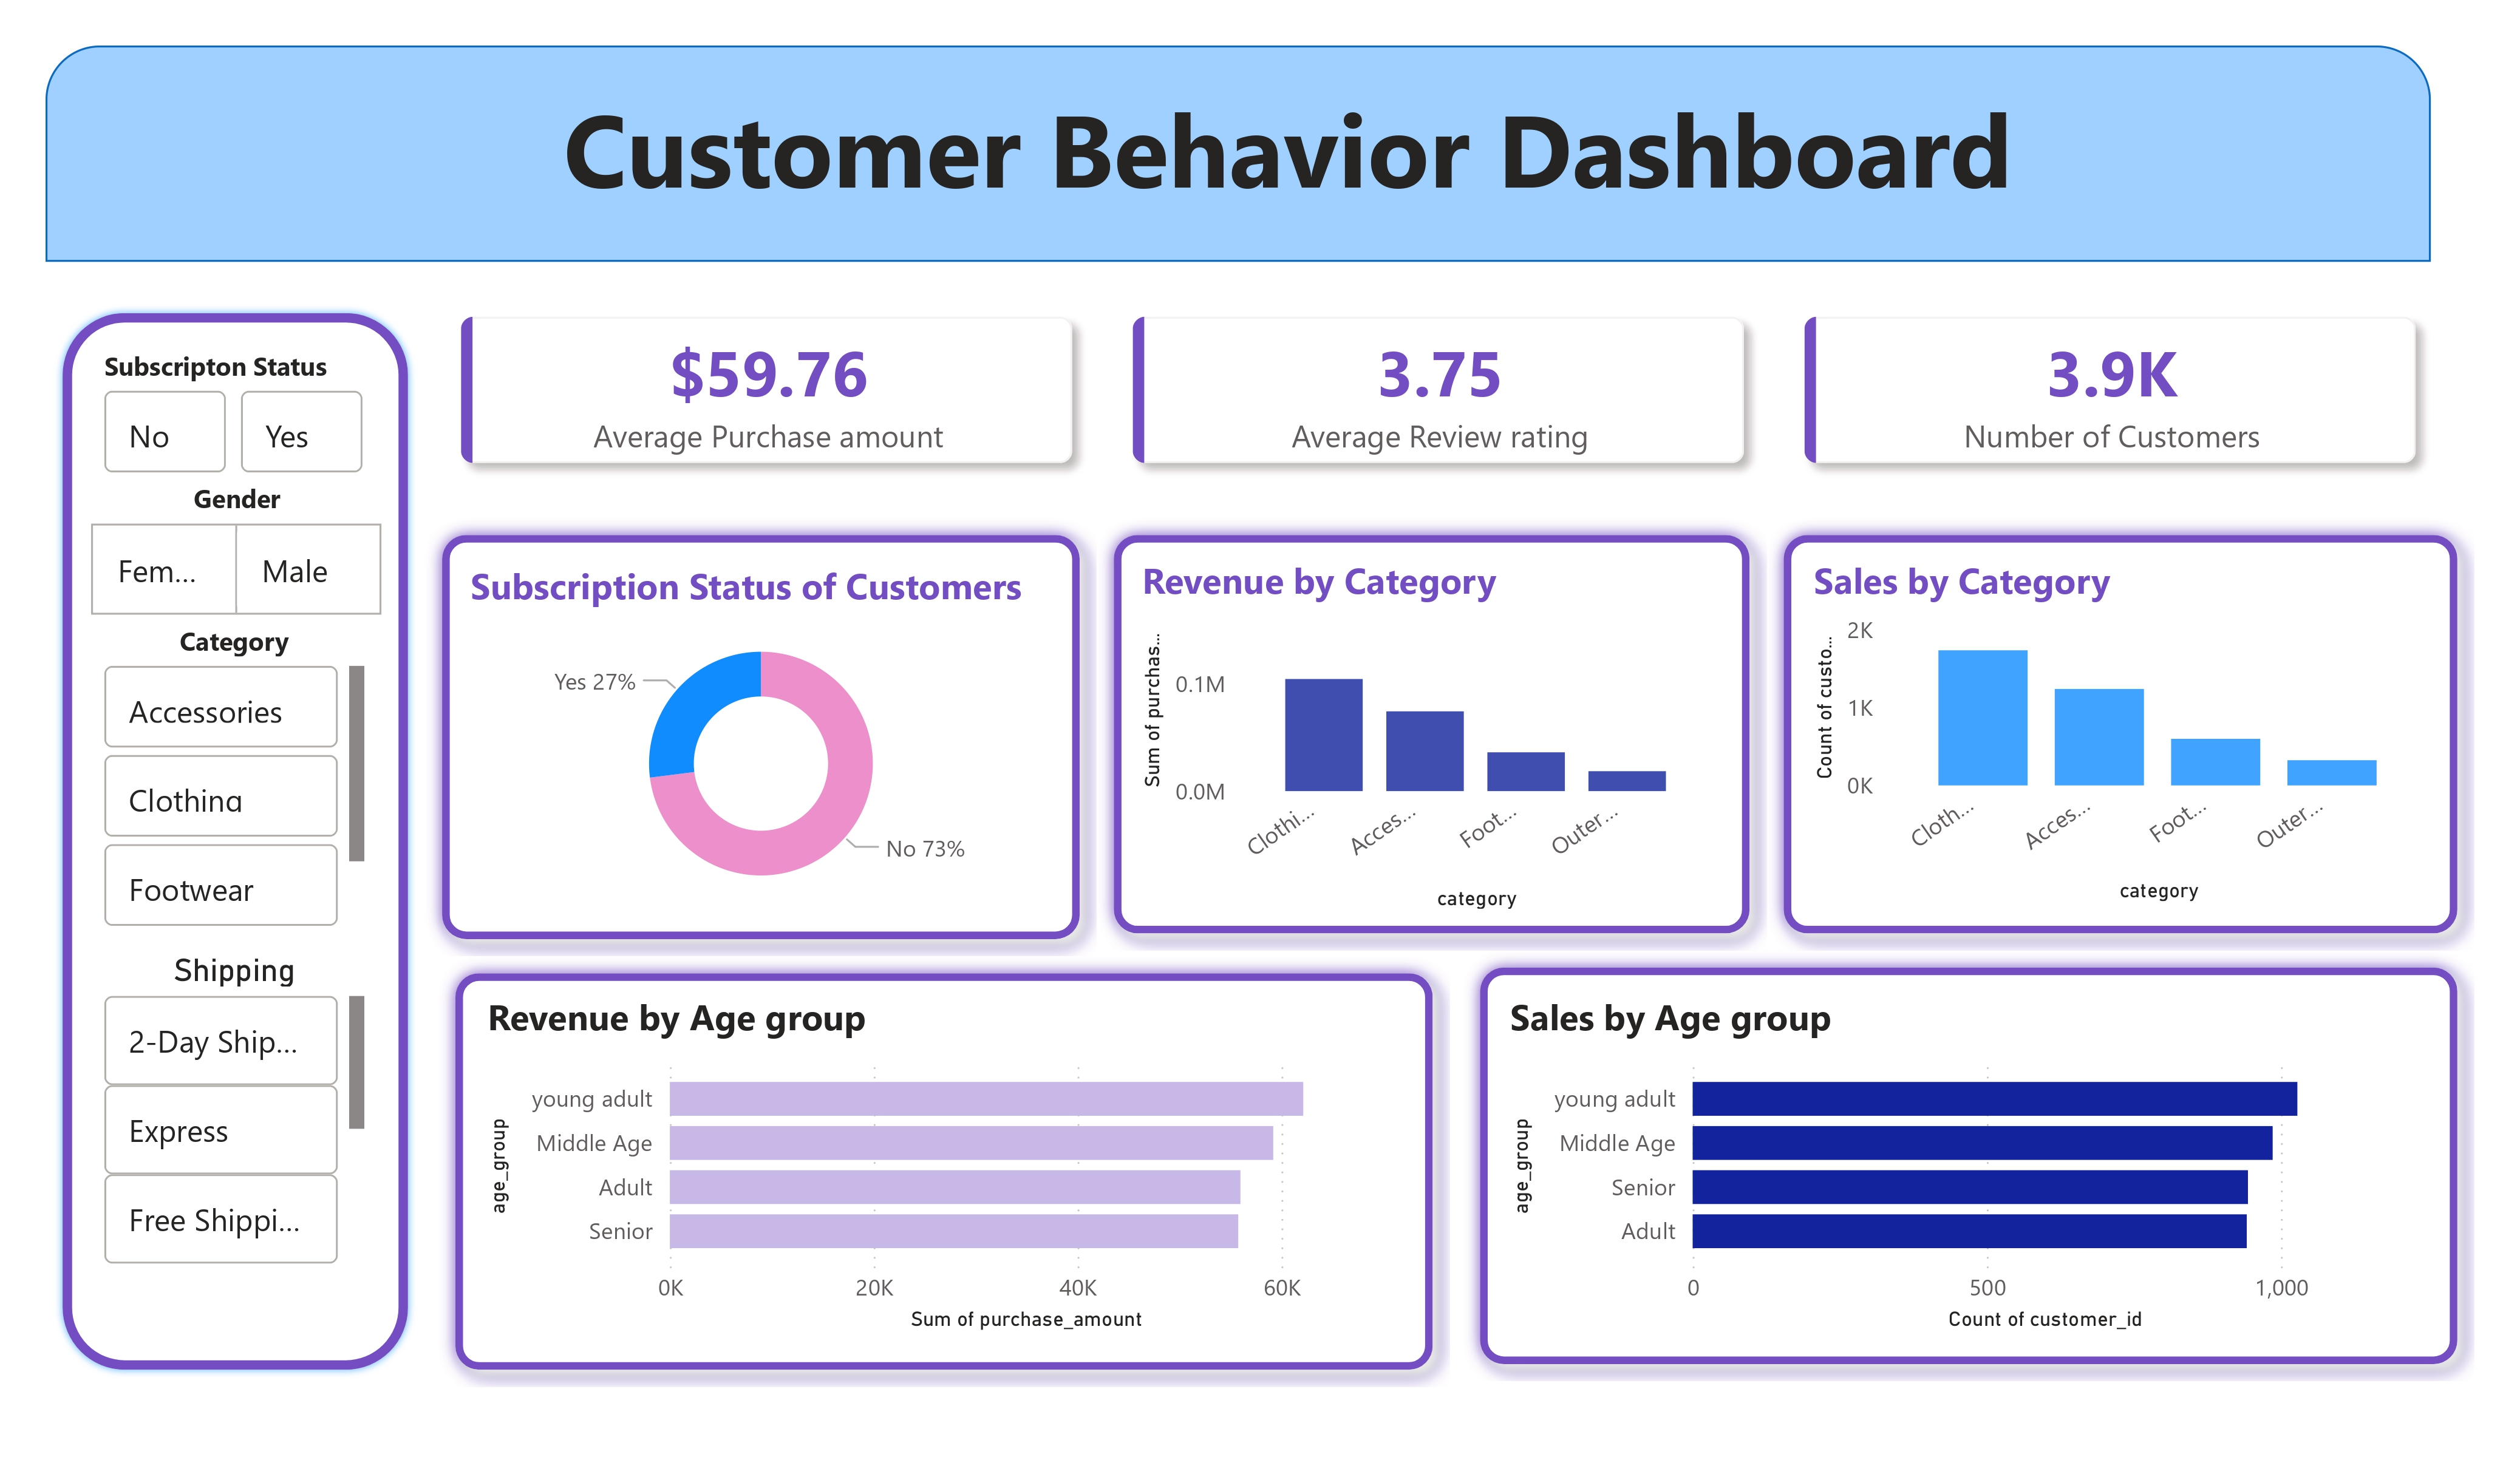

Layout of this report page (visuals, bound fields, positions):
{"tool":"powerbi","page":{"name":"Page 1","canvas":[1280,720],"ordinal":0},"visuals":[{"type":"cardVisual","fields":{"Data":["customer_behavior customer.Average Purchase amount","customer_behavior customer.Average Review rating","customer_behavior customer.Number of Customers"]},"box":[189.7,113.8,1090.3,135.2],"z":0},{"type":"shape","box":[0,0,1256.7,113.8],"z":1},{"type":"textbox","box":[0,11.7,1280,90.5],"z":2},{"type":"shape","box":[200.4,249,354,230.5],"z":3},{"type":"donutChart","title":"Subscription Status of Customers","fields":{"Category":["customer_behavior customer.subscription_status"],"Y":["CountNonNull(customer_behavior customer.customer_id)"]},"box":[218.8,272.3,316.1,187.7],"z":4},{"type":"shape","box":[554.4,249,352.1,227.6],"z":5},{"type":"clusteredColumnChart","title":"Revenue by Category","fields":{"Y":["Sum(customer_behavior customer.purchase_amount)"],"Category":["customer_behavior customer.category"]},"box":[572.9,269.4,309.3,190.6],"z":6},{"type":"shape","box":[906.5,249,373.5,227.6],"z":8},{"type":"clusteredColumnChart","title":"Sales by Category","fields":{"Category":["customer_behavior customer.category"],"Y":["CountNonNull(customer_behavior customer.customer_id)"]},"box":[926.9,269.4,332.6,186.7],"z":9},{"type":"shape","box":[0,132.3,200.4,574.8],"z":10},{"type":"advancedSlicerVisual","title":"Subscripton Status","fields":{"Values":["customer_behavior customer.subscription_status"]},"box":[26.3,159.5,146.9,70],"z":11},{"type":"advancedSlicerVisual","title":"Gender","fields":{"Values":["customer_behavior customer.gender"]},"box":[19.5,229.5,163.4,75.9],"z":12},{"type":"advancedSlicerVisual","title":"Category","fields":{"Values":["customer_behavior customer.category"]},"box":[26.3,305.4,146.9,165.3],"z":13},{"type":"advancedSlicerVisual","title":"Shipping","fields":{"Values":["customer_behavior customer.shipping_type"]},"box":[26.3,476.6,146.9,170.2],"z":14},{"type":"shape","box":[207.2,479.5,533,227.6],"z":16},{"type":"clusteredBarChart","title":"Revenue by Age group","fields":{"Y":["Sum(customer_behavior customer.purchase_amount)"],"Category":["customer_behavior customer.age_group"]},"box":[227.6,499,492.2,182.9],"z":17},{"type":"shape","box":[747,476.6,533,227.6],"z":18},{"type":"clusteredBarChart","title":"Sales by Age group","fields":{"Category":["customer_behavior customer.age_group"],"Y":["CountNonNull(customer_behavior customer.customer_id)"]},"box":[767.4,499,492.2,182.9],"z":19}]}

Visuals, with their boxes in screenshot pixels (x1, y1, x2, y2):
cardVisual - customer_behavior customer.Average Purchase amount x customer_behavior customer.Average Review rating: 375/260/2491/523
shape: 7/39/2447/260
textbox: 7/62/2491/238
shape: 396/523/1083/970
"Subscription Status of Customers" donutChart: 431/568/1045/932
shape: 1083/523/1766/965
"Revenue by Category" clusteredColumnChart: 1119/562/1720/932
shape: 1766/523/2491/965
"Sales by Category" clusteredColumnChart: 1806/562/2452/925
shape: 7/296/396/1412
"Subscripton Status" advancedSlicerVisual: 58/349/343/485
"Gender" advancedSlicerVisual: 44/485/362/632
"Category" advancedSlicerVisual: 58/632/343/953
"Shipping" advancedSlicerVisual: 58/965/343/1295
shape: 409/970/1444/1412
"Revenue by Age group" clusteredBarChart: 449/1008/1404/1363
shape: 1457/965/2491/1406
"Sales by Age group" clusteredBarChart: 1496/1008/2452/1363
